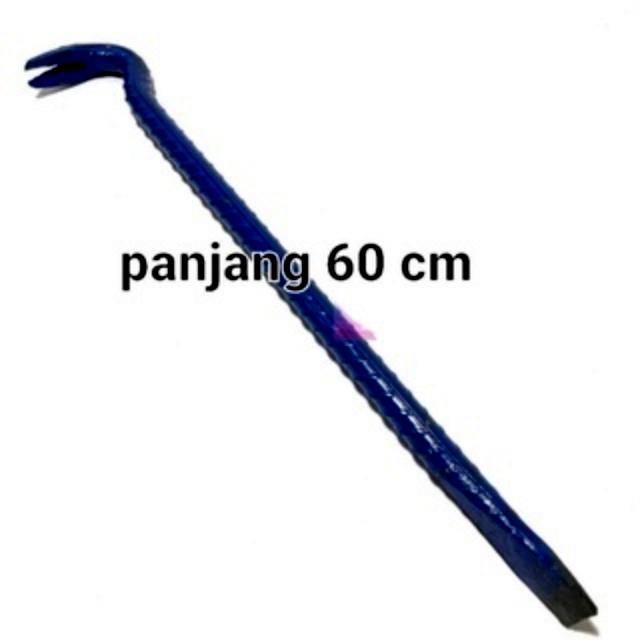crow bar: (16, 33, 604, 636)
